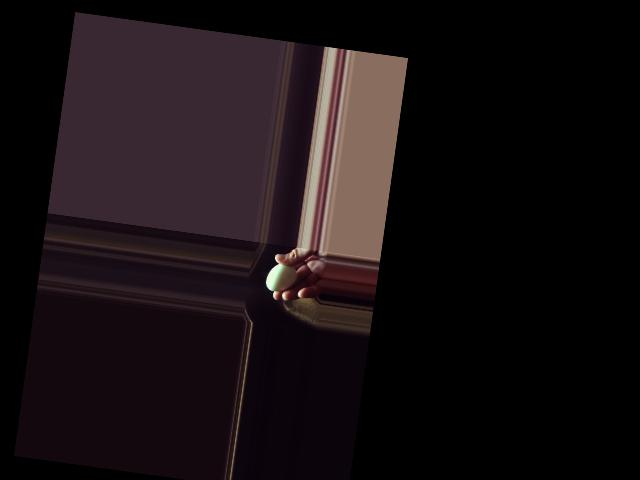egg: (265, 261, 298, 293)
